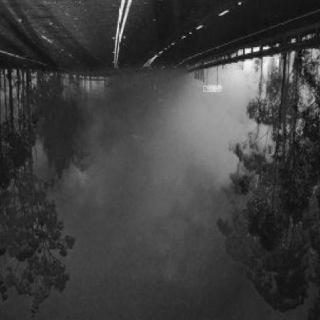Fire: (217, 53, 295, 145)
